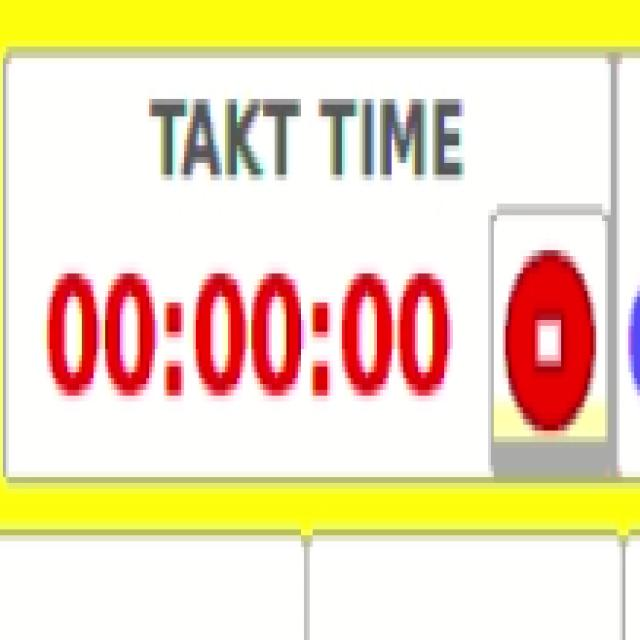takt_time: (13, 74, 489, 425)
